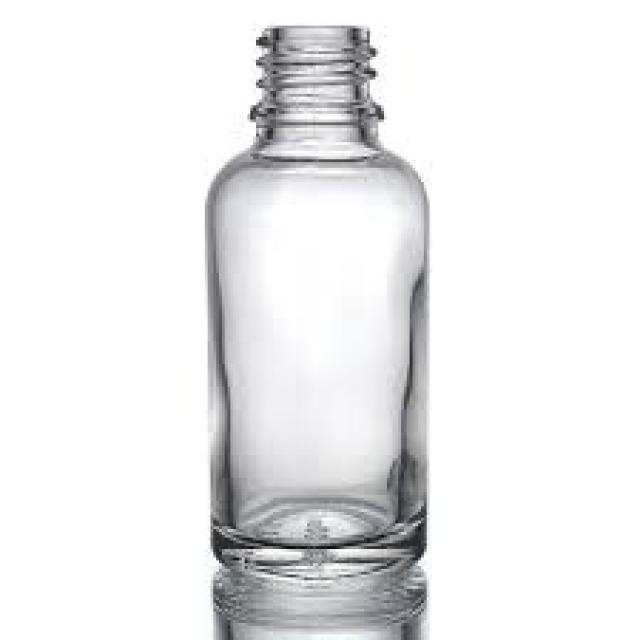Glass-Non-Biodegradable but Recyclable-: (204, 25, 433, 601)
